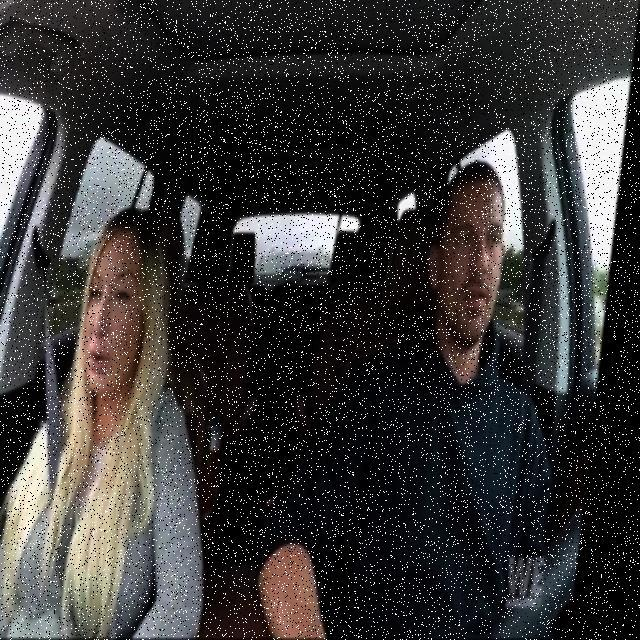noSeatbelt: (332, 359, 534, 632)
seatbelt: (24, 405, 170, 639)
